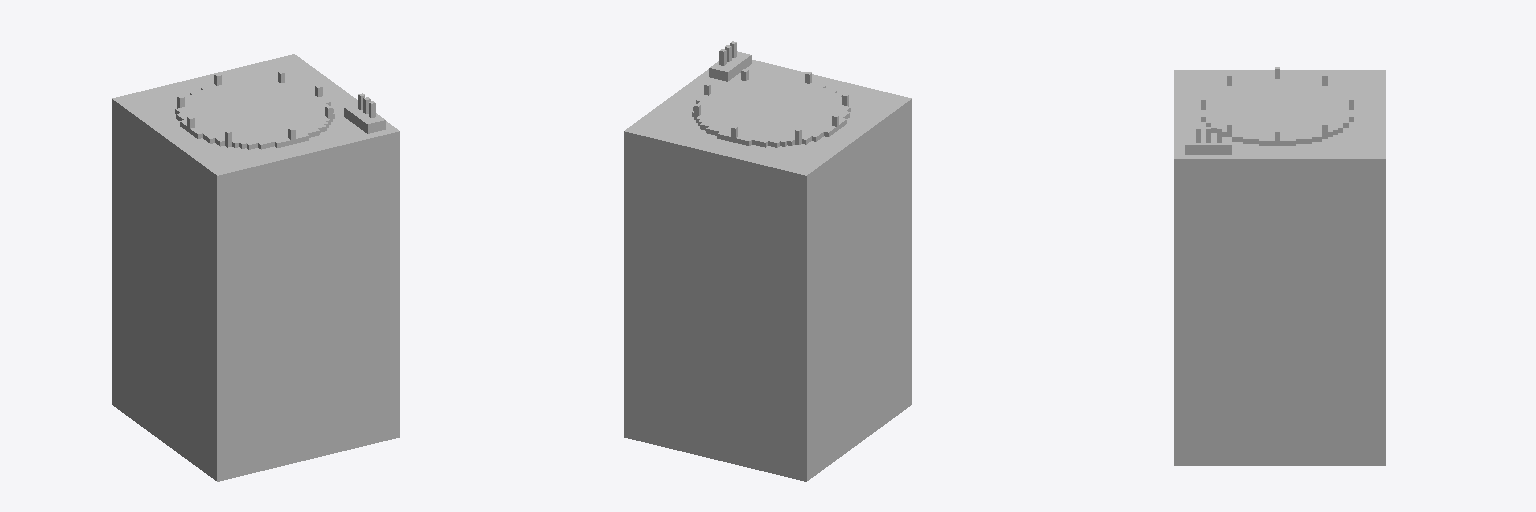
File: Building_4.obj
The picture shows the model from 3 angles: view 1: azimuth 30°, elevation 25°; view 2: azimuth 150°, elevation 25°; view 3: azimuth 270°, elevation 25°; orthographic projection.
Parts seen in each view (by area): view 1: Building_4; view 2: Building_4; view 3: Building_4.
Boxes of the visible parts, x1,y1,x2,y2 form: Building_4: [112, 54, 399, 481]; Building_4: [624, 41, 911, 481]; Building_4: [1174, 67, 1385, 465].
Bounding box in the file's own units: 40 × 69 × 40.